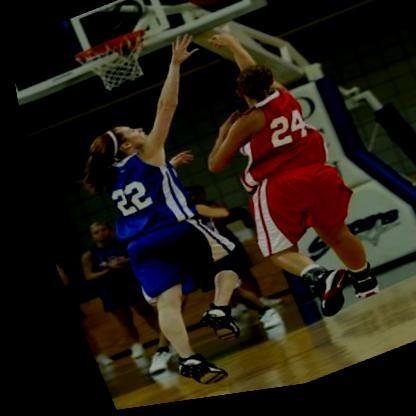basketball: (178, 0, 237, 19)
